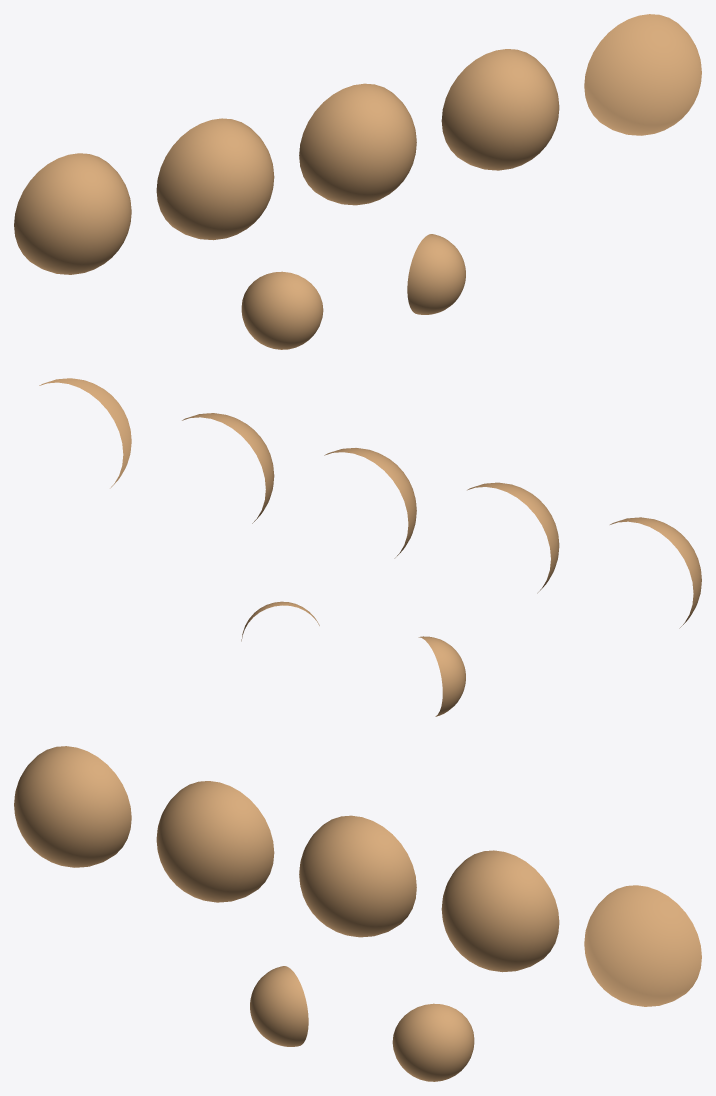
File: static-pbr-factors-v1.glb
The picture shows the model from 3 angles, top to bottom: view 1: azimuth 30°, elevation 25°; view 2: azimuth 150°, elevation 25°; view 3: azimuth 330°, elevation 25°; orthographic projection.
Visible parts, largest first — view 1: matte-dielectric (×3), unlit-control, rough-metal, smooth-dielectric, smooth-metal; view 2: matte-dielectric (×2), smooth-dielectric, rough-metal, smooth-metal, unlit-control; view 3: matte-dielectric (×3), rough-metal, unlit-control, smooth-dielectric, smooth-metal.
Boxes of the visible parts, x1,y1,x2,y2 form: matte-dielectric (×3): (14,153,465,349); unlit-control: (584,14,701,135); rough-metal: (299,83,416,205); smooth-dielectric: (156,118,274,240); smooth-metal: (441,49,559,170); matte-dielectric (×2): (418,517,701,716); smooth-dielectric: (467,482,559,593); rough-metal: (324,448,416,558); smooth-metal: (182,413,274,523); unlit-control: (39,378,131,488); matte-dielectric (×3): (14,746,474,1081); rough-metal: (299,815,416,937); unlit-control: (584,885,701,1006); smooth-dielectric: (156,781,274,902); smooth-metal: (441,850,559,972).
Bounding box in the file's own units: 14.3 × 4.9 × 1.57.
